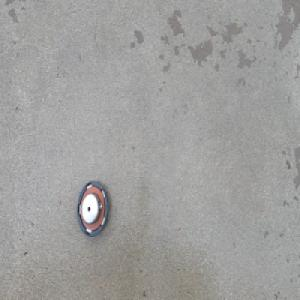FuelCap: (76, 177, 109, 239)
